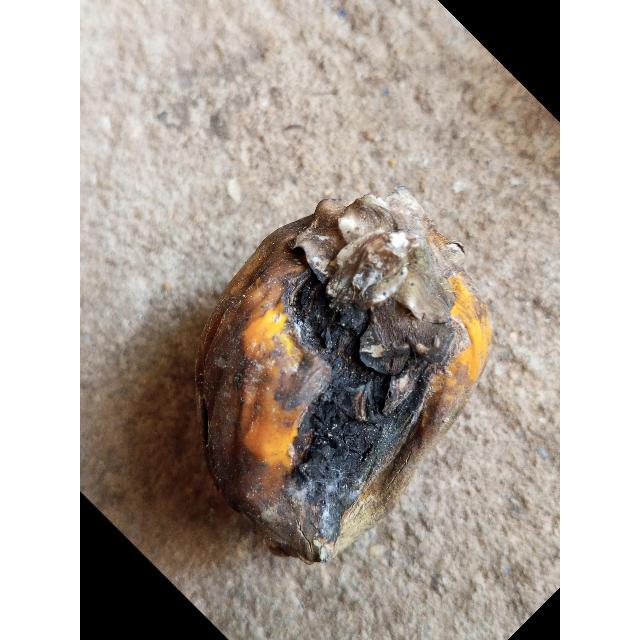damaged: (195, 190, 493, 565)
